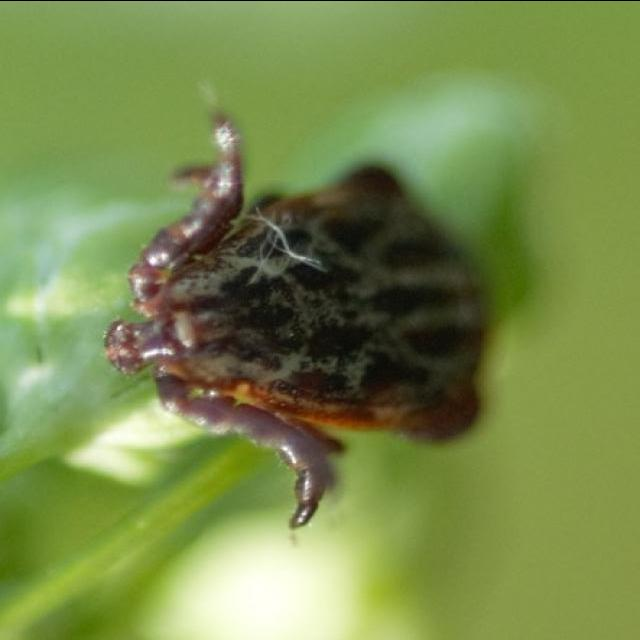Dermacentor Reticulatus-M: (104, 116, 490, 530)
